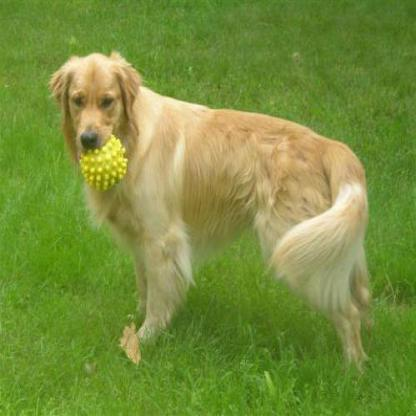dog: (36, 25, 391, 362)
